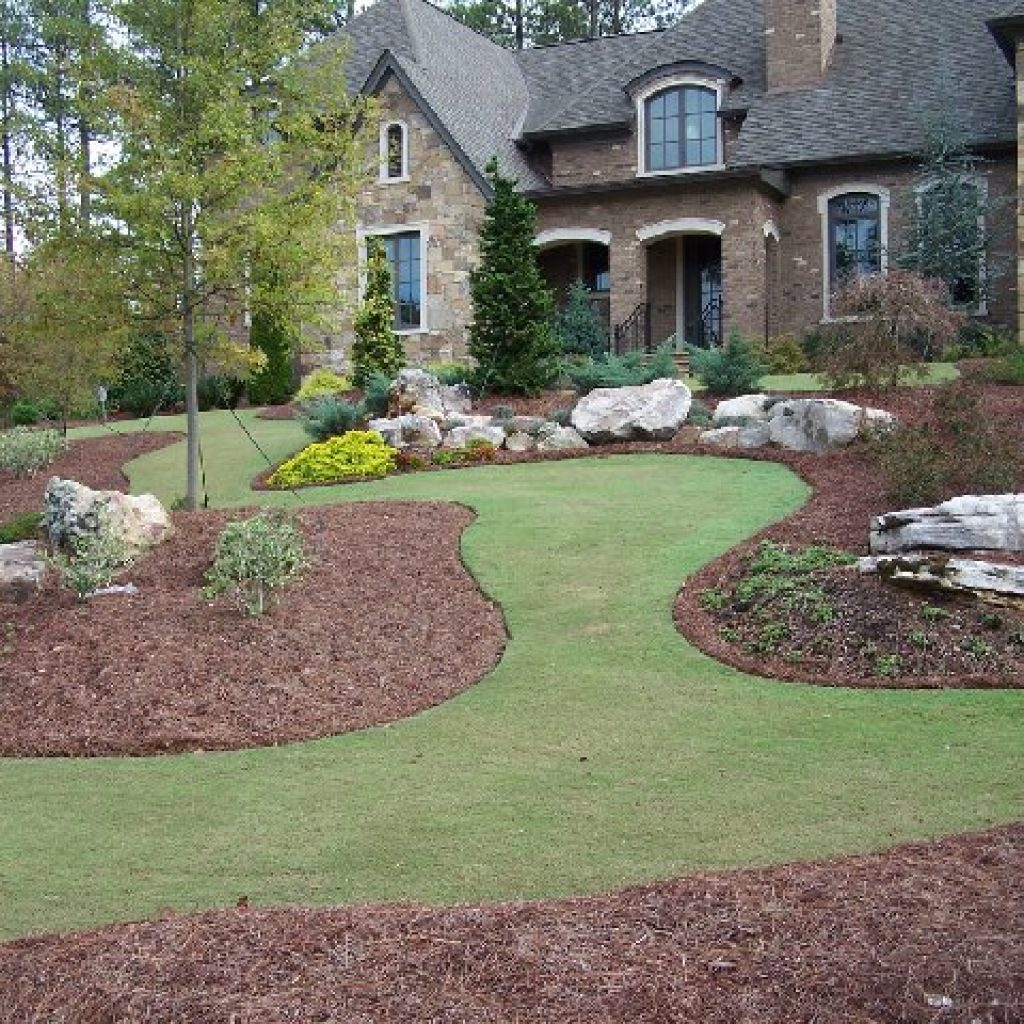dirt: (6, 830, 1019, 1021), (8, 503, 501, 757), (677, 387, 1013, 676)
grass: (0, 677, 1009, 934), (461, 456, 795, 678)
rock: (864, 487, 1023, 609), (701, 387, 886, 452), (36, 481, 178, 562), (375, 410, 566, 465), (573, 377, 691, 444)
tree: (175, 289, 203, 509)
